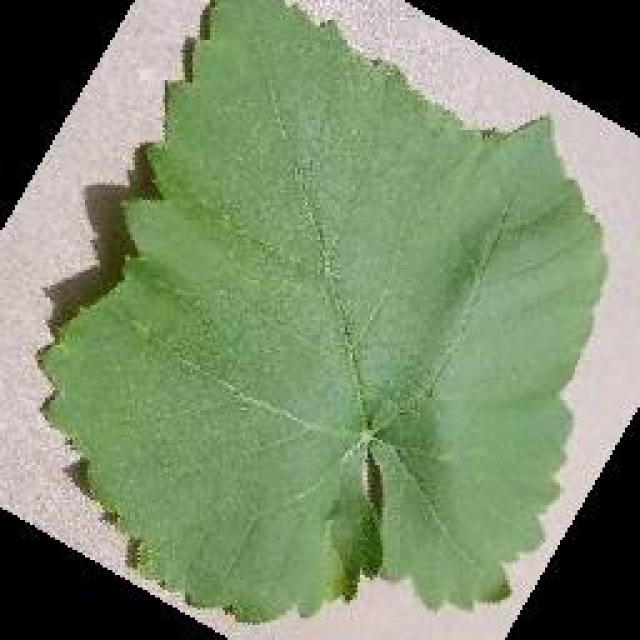Grape___healthy: (48, 0, 602, 622)
